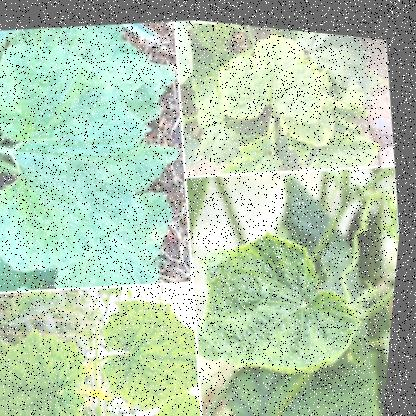CassavaMosaicDisease: (201, 229, 325, 369), (0, 46, 127, 172), (215, 18, 332, 132), (110, 291, 220, 402), (17, 162, 116, 256), (0, 340, 93, 415)
